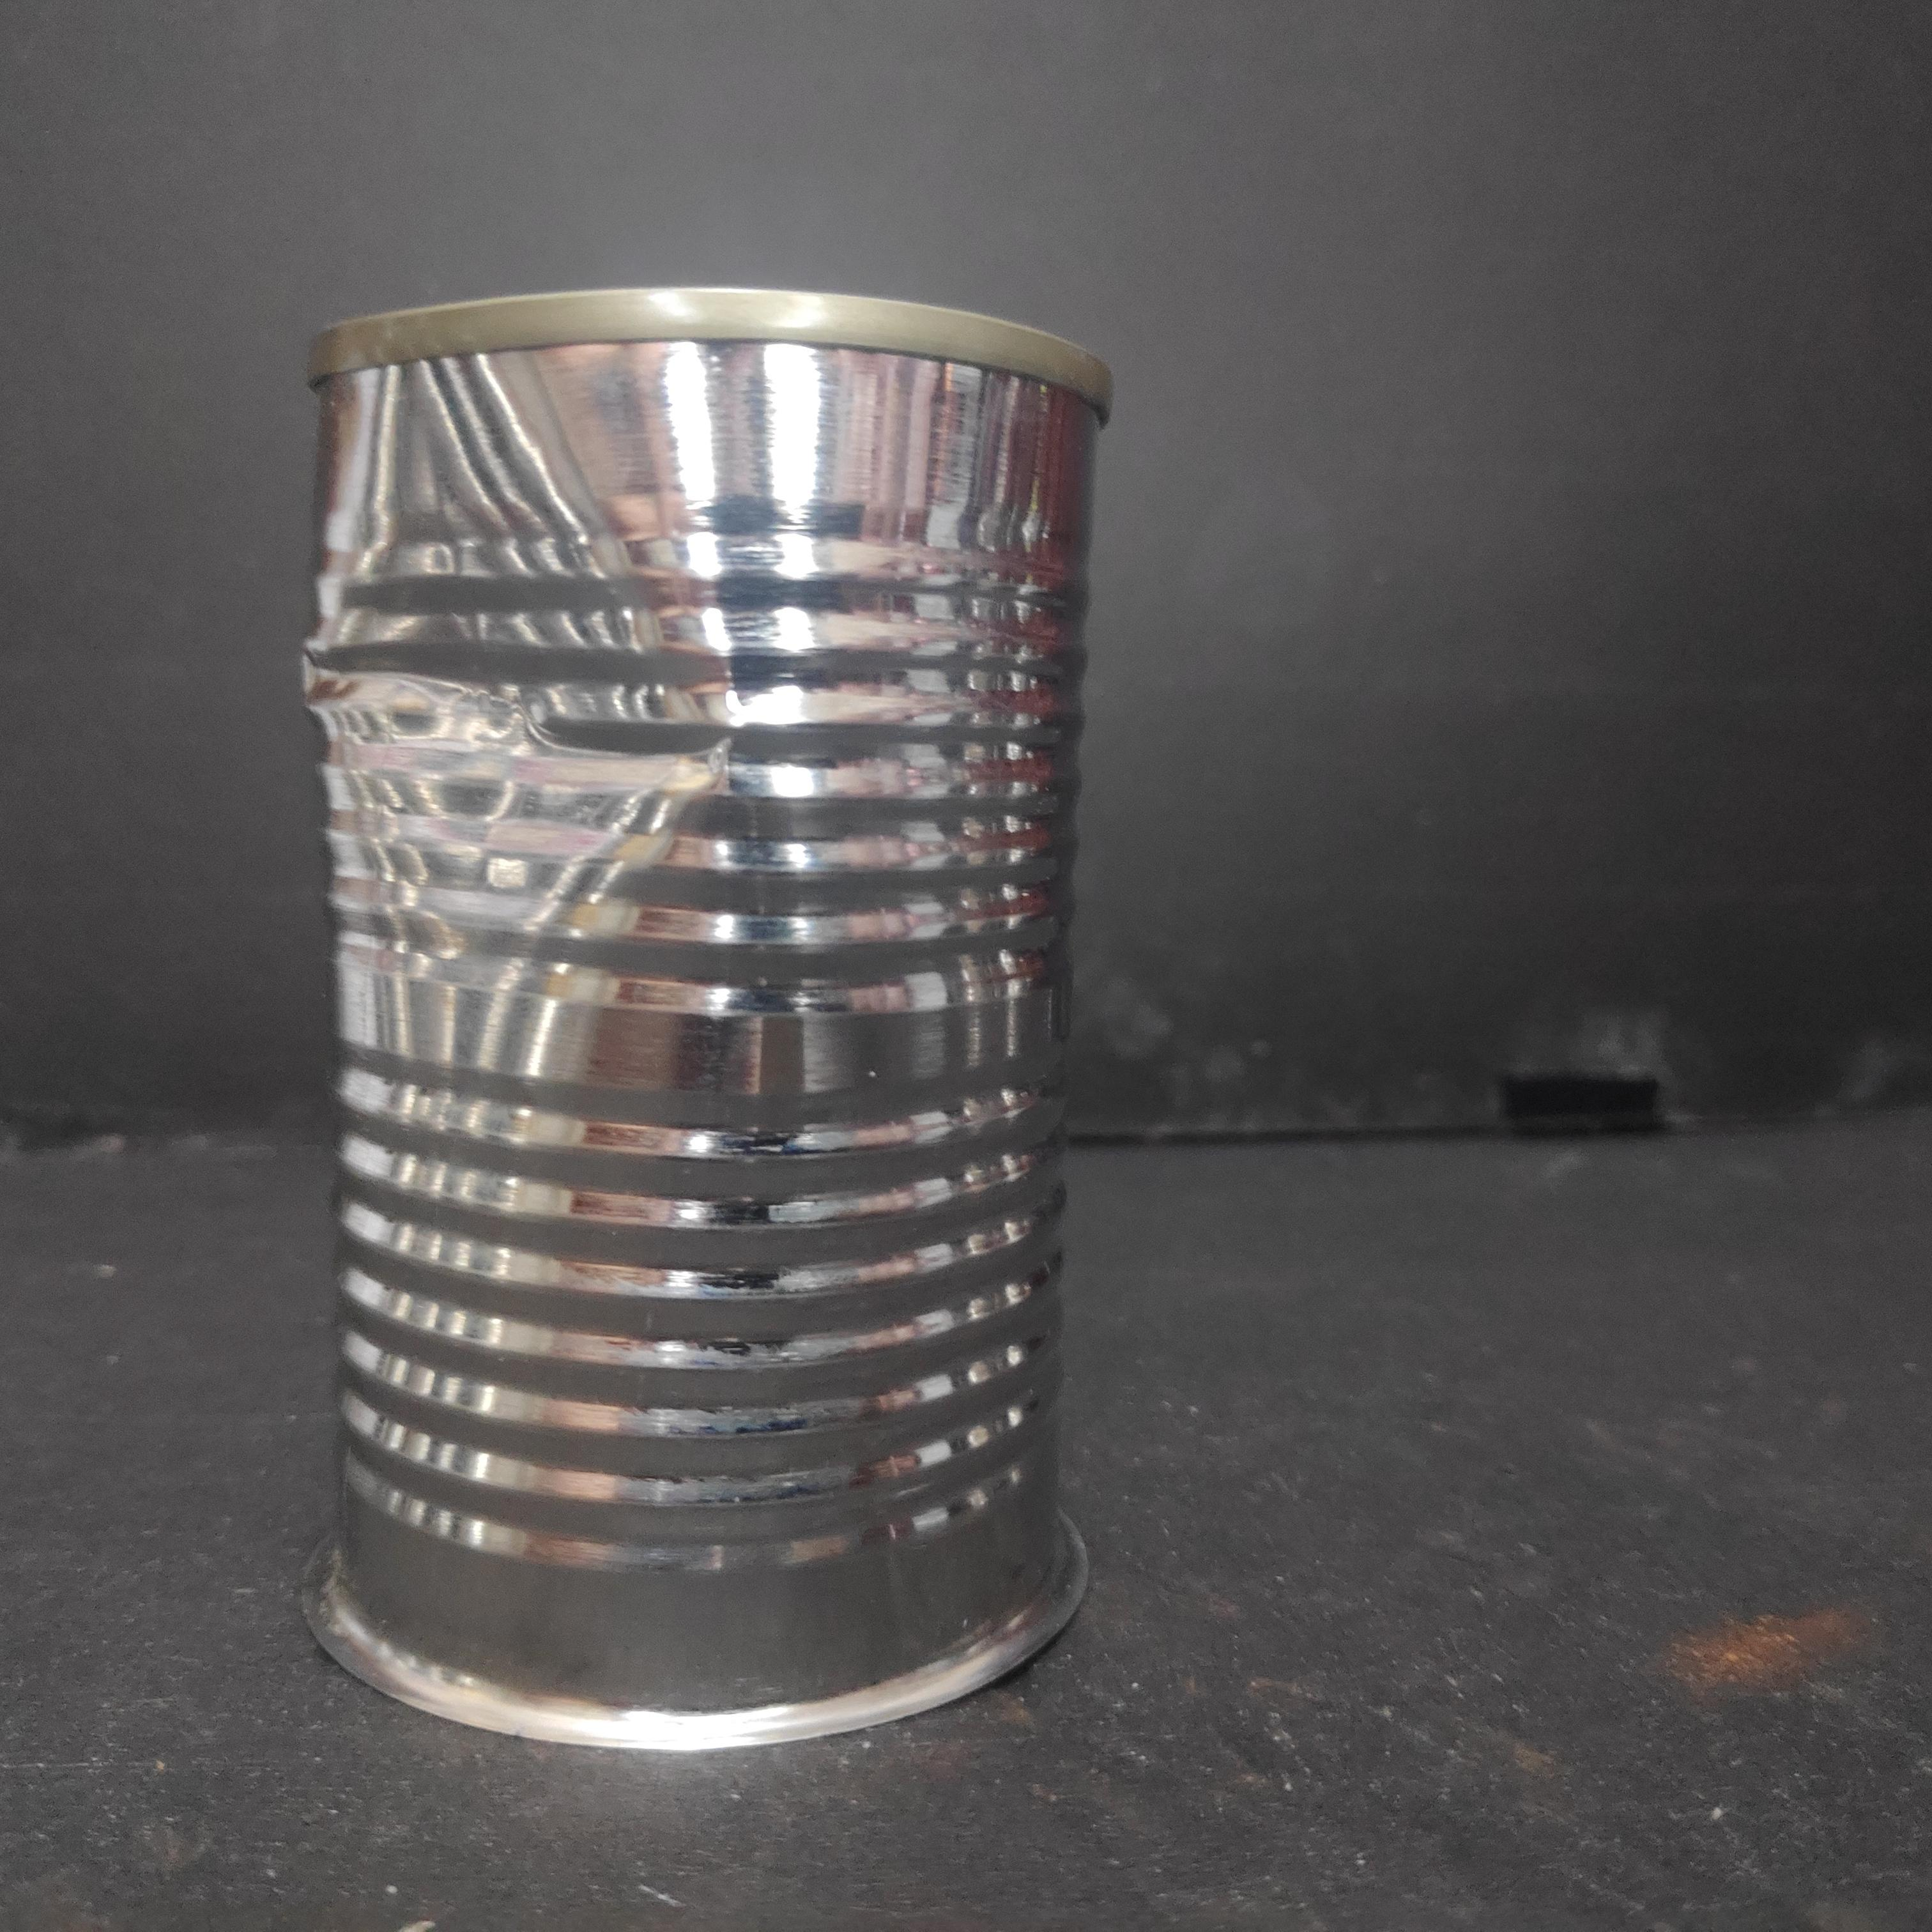Minor Defect: (289, 282, 1123, 1763)
